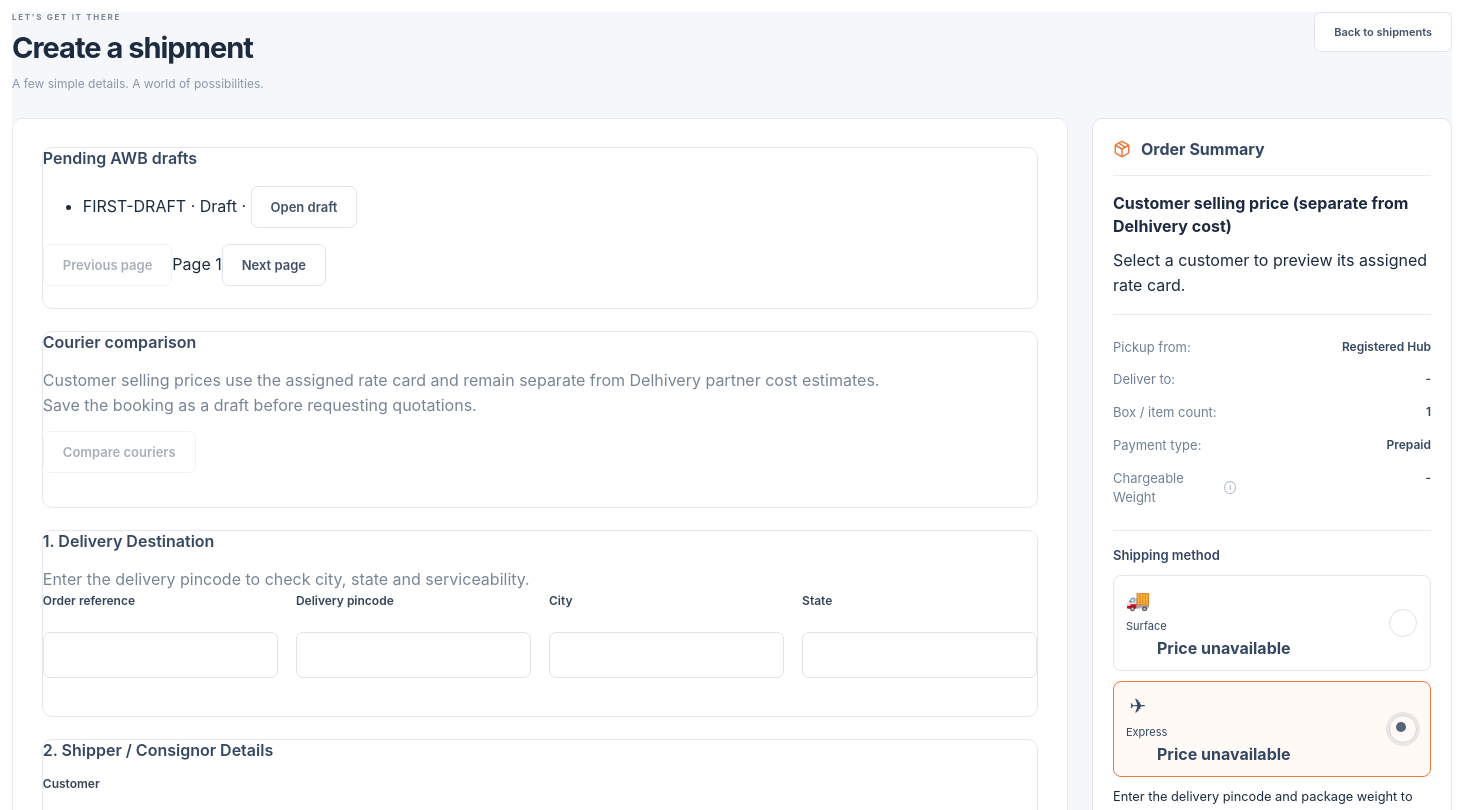
Scenario: opens later pending AWB pages with the dashboard date range
Expected: the text "FIRST-DRAFT · Draft ·" is shown, 83,196 -> 251,216
Click the button "Next page" at (274, 265), box 222,244 -> 326,286
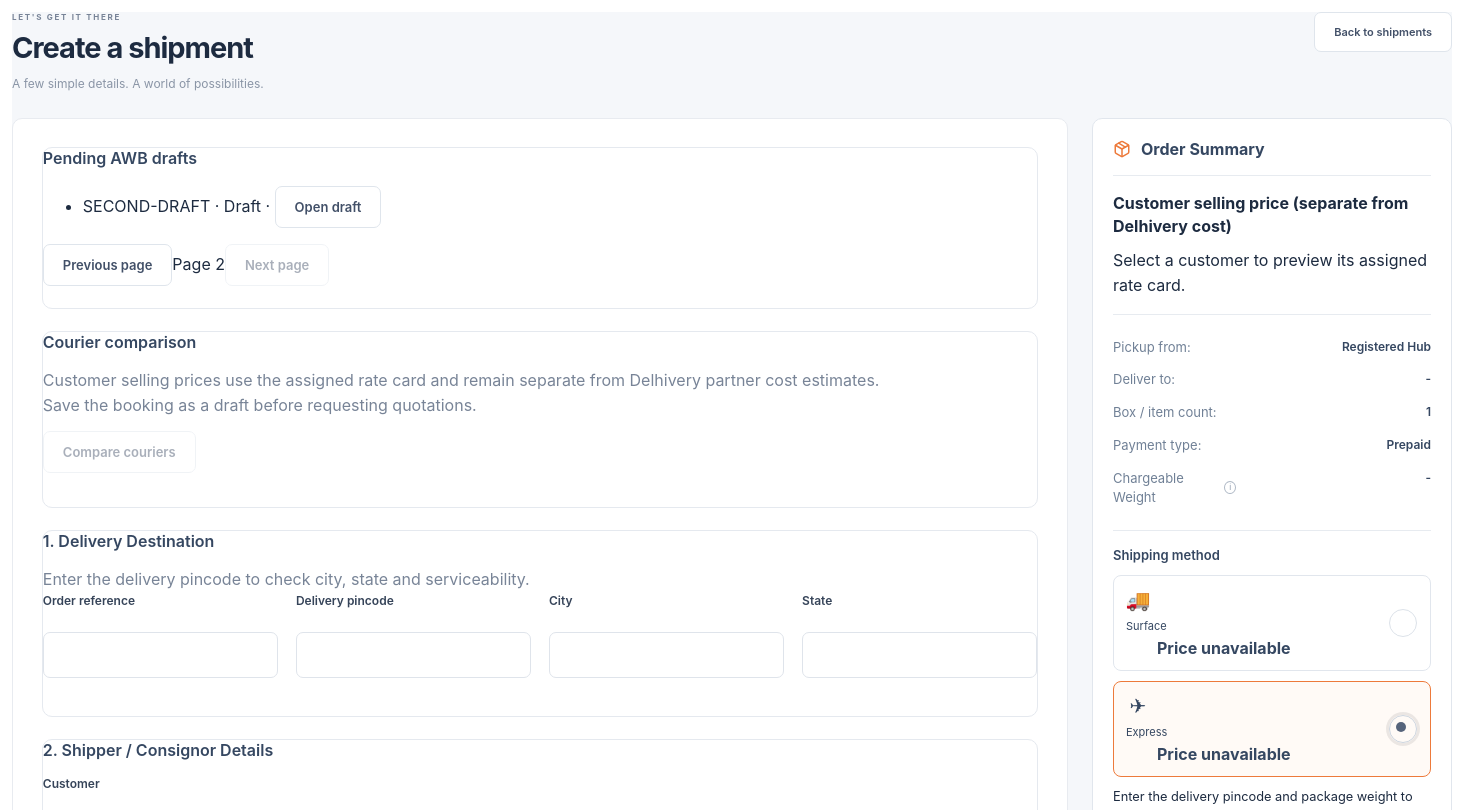
Result: the text "SECOND-DRAFT · Draft ·" is shown at 83,196 -> 275,216
